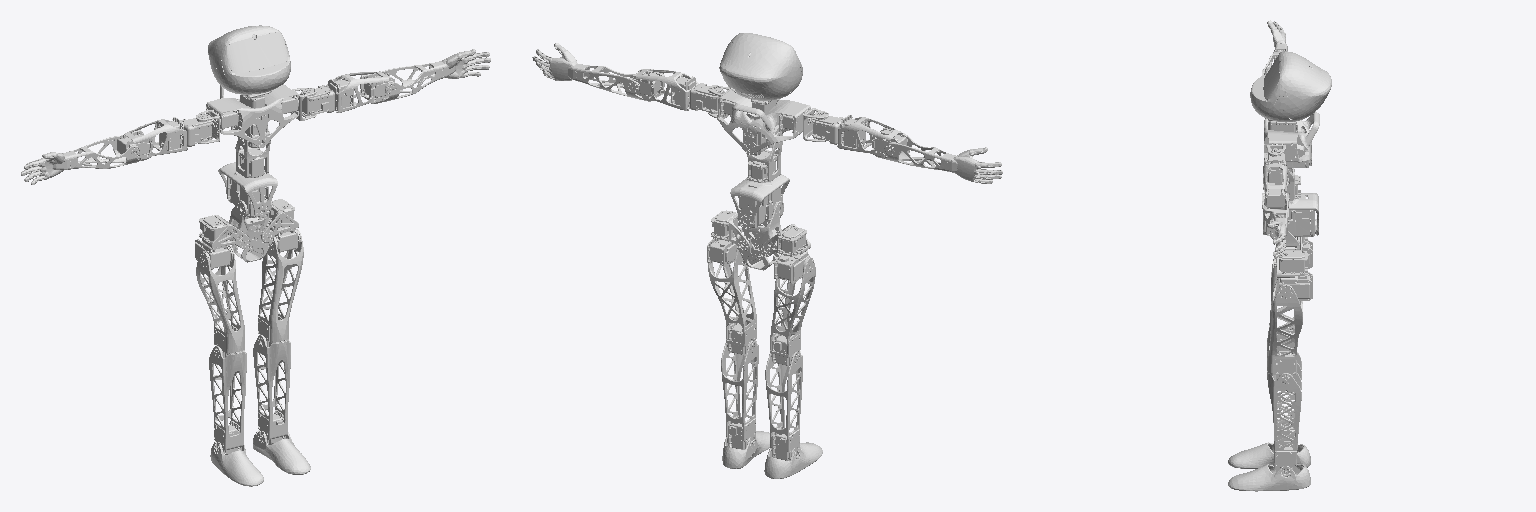
--- Render facts (derived) ---
3 views of the same robot in one strip: view 1: azimuth 30°, elevation 25°; view 2: azimuth 150°, elevation 25°; view 3: azimuth 270°, elevation 25° (orthographic).
Robot: Poppy_Humanoid — 26 links, 25 joints (25 revolute); root link pelvis; default pose: all joints at 0.
Visible links, largest first — view 1: head, chest, l_thigh, l_shin, r_thigh, r_shin, r_forearm, l_forearm, r_upper_arm, l_upper_arm, pelvis, l_foot (+9 smaller); view 2: head, chest, l_shin, r_shin, r_thigh, l_thigh, r_forearm, l_forearm, l_upper_arm, r_upper_arm, abdomen, pelvis (+10 smaller); view 3: head, l_thigh, l_shin, chest, l_foot, l_upper_arm, r_foot, l_forearm, abs_motors, l_hip, l_hip_motor.
Link boxes in pixels (x1,y1,x2,y2): head: (208,25,290,94); chest: (206,84,298,147); l_thigh: (258,229,303,346); l_shin: (253,335,290,444); r_thigh: (196,245,244,357); r_shin: (209,346,246,454); r_forearm: (21,136,139,184); l_forearm: (381,49,490,102); r_upper_arm: (117,117,187,160); l_upper_arm: (326,71,394,112); pelvis: (227,200,272,262); l_foot: (253,430,310,474); head: (719,33,802,100); chest: (717,90,810,154); l_shin: (721,340,758,449); r_shin: (765,351,802,460); r_thigh: (770,257,815,366); l_thigh: (708,249,756,355); r_forearm: (884,134,1002,183); l_forearm: (532,43,642,99); l_upper_arm: (630,69,698,110); r_upper_arm: (837,115,907,158); abdomen: (730,174,789,229); pelvis: (737,201,783,270); head: (1250,51,1331,122); l_thigh: (1267,278,1302,381); l_shin: (1267,371,1301,473); chest: (1264,112,1319,165); l_foot: (1228,464,1310,491); l_upper_arm: (1263,160,1289,208); r_foot: (1228,442,1310,468); l_forearm: (1262,193,1288,258); abs_motors: (1265,210,1316,237); l_hip: (1275,250,1307,277); l_hip_motor: (1278,272,1312,300).
Size in the robot's own frame: 0.9302 by 0.1838 by 0.8094 metres.
Meshes: 26 distinct files referenced, 26 mesh visuals loaded (26 binary STL).

URDF robot description (Poppy_Humanoid):
<?xml version="1.0" encoding="utf-8"?>
<robot name="Poppy_Humanoid">
	<link name="pelvis">
		<inertial>
			<origin xyz="-0.000134932459328483 -0.000399086261064929 0.00195556930608449" rpy="0 0 0"></origin>
			<mass value="0.18520035953947"></mass>
			<inertia ixx="0.000101804322229161" ixy="3.56589402562651E-08" ixz="-1.38613151054156E-05" iyy="0.000142404075398435" iyz="-3.50682832702007E-06" izz="9.38193247222871E-05"></inertia>
		</inertial>
		<visual>
			<origin xyz="0 0 0" rpy="0 0 0"></origin>
			<geometry>
				<mesh filename="package://meshes/pelvis_visual.STL"></mesh>
			</geometry>
			<material name="">
				<color rgba="0.9 0.9 0.9 1.0"></color>
			</material>
		</visual>
		<collision>
			<origin xyz="0 0 0" rpy="0 0 0"></origin>
			<geometry>
				<mesh filename="package://meshes/pelvis_respondable.STL"></mesh>
			</geometry>
		</collision>
	</link>
	<link name="r_hip">
		<inertial>
			<origin xyz="-0.0419310610774408 0.0190565121211527 -0.0049369159749795" rpy="0 0 0"></origin>
			<mass value="0.0843835237958419"></mass>
			<inertia ixx="2.80785419197495E-05" ixy="-1.23046307113086E-06" ixz="6.6239556232755E-07" iyy="2.83383567782285E-05" iyz="-1.44609279432087E-06" izz="2.15931686710985E-05"></inertia>
		</inertial>
		<visual>
			<origin xyz="0 0 0" rpy="0 0 0"></origin>
			<geometry>
				<mesh filename="package://meshes/r_hip_visual.STL"></mesh>
			</geometry>
			<material name="">
				<color rgba="0.9 0.9 0.9 1.0"></color>
			</material>
		</visual>
		<collision>
			<origin xyz="0 0 0" rpy="0 0 0"></origin>
			<geometry>
				<mesh filename="package://meshes/r_hip_respondable.STL"></mesh>
			</geometry>
		</collision>
	</link>
	<link name="r_hip_motor">
		<inertial>
			<origin xyz="0.00012677211714017 -0.0228896110294103 -0.0134988950219984" rpy="0 0 0"></origin>
			<mass value="0.0831707898707576"></mass>
			<inertia ixx="2.94087635631147E-05" ixy="-1.19904545841814E-08" ixz="-2.40263672865729E-07" iyy="3.59801748266375E-05" iyz="7.9755837503152E-07" izz="2.29200602273928E-05"></inertia>
		</inertial>
		<visual>
			<origin xyz="0 0 0" rpy="0 0 0"></origin>
			<geometry>
				<mesh filename="package://meshes/r_hip_motor_visual.STL"></mesh>
			</geometry>
			<material name="">
				<color rgba="0.9 0.9 0.9 1.0"></color>
			</material>
		</visual>
		<collision>
			<origin xyz="0 0 0" rpy="0 0 0"></origin>
			<geometry>
				<mesh filename="package://meshes/r_hip_motor_respondable.STL"></mesh>
			</geometry>
		</collision>
	</link>
	<link name="r_thigh">
		<inertial>
			<origin xyz="0.0192501209789311 -0.140974172218775 0.000432765258959229" rpy="0 0 0"></origin>
			<mass value="0.116386255838466"></mass>
			<inertia ixx="0.000357762131890894" ixy="-4.71321103204108E-05" ixz="2.18885095933642E-06" iyy="5.14619739065129E-05" iyz="-5.54069244270054E-06" izz="0.000370171570432626"></inertia>
		</inertial>
		<visual>
			<origin xyz="0 0 0" rpy="0 0 0"></origin>
			<geometry>
				<mesh filename="package://meshes/r_thigh_visual.STL"></mesh>
			</geometry>
			<material name="">
				<color rgba="0.9 0.9 0.9 1.0"></color>
			</material>
		</visual>
		<collision>
			<origin xyz="0 0 0" rpy="0 0 0"></origin>
			<geometry>
				<mesh filename="package://meshes/r_thigh_respondable.STL"></mesh>
			</geometry>
		</collision>
	</link>
	<link name="r_shin">
		<inertial>
			<origin xyz="-0.00150809388022299 -0.137041584549603 0.0228988594303728" rpy="0 0 0"></origin>
			<mass value="0.115582219792398"></mass>
			<inertia ixx="0.000397225397723862" ixy="-1.73262609639968E-05" ixz="1.32921239310872E-08" iyy="3.98086710206889E-05" iyz="-5.89721905441721E-07" izz="0.000393657905933943"></inertia>
		</inertial>
		<visual>
			<origin xyz="0 0 0" rpy="0 0 0"></origin>
			<geometry>
				<mesh filename="package://meshes/r_shin_visual.STL"></mesh>
			</geometry>
			<material name="">
				<color rgba="0.9 0.9 0.9 1.0"></color>
			</material>
		</visual>
		<collision>
			<origin xyz="0 0 0" rpy="0 0 0"></origin>
			<geometry>
				<mesh filename="package://meshes/r_shin_respondable.STL"></mesh>
			</geometry>
		</collision>
	</link>
	<link name="r_foot">
		<inertial>
			<origin xyz="0.0204293303781304 -0.0233359048261193 0.0268526073213802" rpy="0 0 0"></origin>
			<mass value="0.0467879950319091"></mass>
			<inertia ixx="8.14403907813341E-05" ixy="1.79180509533517E-07" ixz="-2.42059026946486E-06" iyy="8.8648252995759E-05" iyz="-3.23018791598496E-06" izz="1.79463752431845E-05"></inertia>
		</inertial>
		<visual>
			<origin xyz="0 0 0" rpy="0 0 0"></origin>
			<geometry>
				<mesh filename="package://meshes/r_foot_visual.STL"></mesh>
			</geometry>
			<material name="">
				<color rgba="0.9 0.9 0.9 1.0"></color>
			</material>
		</visual>
		<collision>
			<origin xyz="0 0 0" rpy="0 0 0"></origin>
			<geometry>
				<mesh filename="package://meshes/r_foot_respondable.STL"></mesh>
			</geometry>
		</collision>
	</link>
	<link name="l_hip">
		<inertial>
			<origin xyz="0.0419306472605077 0.0190563885809745 -0.00493699078761145" rpy="0 0 0"></origin>
			<mass value="0.084384314388701"></mass>
			<inertia ixx="2.80793467645287E-05" ixy="1.23086422338588E-06" ixz="-6.62398430684737E-07" iyy="2.83405782814578E-05" iyz="-1.44600299896268E-06" izz="2.15947433435168E-05"></inertia>
		</inertial>
		<visual>
			<origin xyz="0 0 0" rpy="0 0 0"></origin>
			<geometry>
				<mesh filename="package://meshes/l_hip_visual.STL"></mesh>
			</geometry>
			<material name="">
				<color rgba="0.9 0.9 0.9 1.0"></color>
			</material>
		</visual>
		<collision>
			<origin xyz="0 0 0" rpy="0 0 0"></origin>
			<geometry>
				<mesh filename="package://meshes/l_hip_respondable.STL"></mesh>
			</geometry>
		</collision>
	</link>
	<link name="l_hip_motor">
		<inertial>
			<origin xyz="-0.000127079593402107 -0.0228896103855824 -0.0134988950219984" rpy="0 0 0"></origin>
			<mass value="0.0831707898707576"></mass>
			<inertia ixx="2.94087634441972E-05" ixy="1.14532470512781E-08" ixz="2.40221424306256E-07" iyy="3.59801683348766E-05" iyz="7.97560828147263E-07" izz="2.29200536167144E-05"></inertia>
		</inertial>
		<visual>
			<origin xyz="0 0 0" rpy="0 0 0"></origin>
			<geometry>
				<mesh filename="package://meshes/l_hip_motor_visual.STL"></mesh>
			</geometry>
			<material name="">
				<color rgba="0.9 0.9 0.9 1.0"></color>
			</material>
		</visual>
		<collision>
			<origin xyz="0 0 0" rpy="0 0 0"></origin>
			<geometry>
				<mesh filename="package://meshes/l_hip_motor_respondable.STL"></mesh>
			</geometry>
		</collision>
	</link>
	<link name="l_thigh">
		<inertial>
			<origin xyz="-0.019252460356064 -0.142230931721003 0.000612323159069193" rpy="0 0 0"></origin>
			<mass value="0.114854459344049"></mass>
			<inertia ixx="0.000344974307251891" ixy="4.73949176309948E-05" ixz="-2.2011322605997E-06" iyy="5.11655383215627E-05" iyz="-3.3911468808746E-06" izz="0.000357718491831138"></inertia>
		</inertial>
		<visual>
			<origin xyz="0 0 0" rpy="0 0 0"></origin>
			<geometry>
				<mesh filename="package://meshes/l_thigh_visual.STL"></mesh>
			</geometry>
			<material name="">
				<color rgba="0.9 0.9 0.9 1.0"></color>
			</material>
		</visual>
		<collision>
			<origin xyz="0 0 0" rpy="0 0 0"></origin>
			<geometry>
				<mesh filename="package://meshes/l_thigh_respondable.STL"></mesh>
			</geometry>
		</collision>
	</link>
	<link name="l_shin">
		<inertial>
			<origin xyz="-0.00150809145543363 -0.137041584769234 -0.0229033576380381" rpy="0 0 0"></origin>
			<mass value="0.11558221959692"></mass>
			<inertia ixx="0.000397225344473892" ixy="-1.7326274763791E-05" ixz="-3.52146929156471E-09" iyy="3.98086215785412E-05" iyz="5.50111227416849E-07" izz="0.000393657903677591"></inertia>
		</inertial>
		<visual>
			<origin xyz="0 0 0" rpy="0 0 0"></origin>
			<geometry>
				<mesh filename="package://meshes/l_shin_visual.STL"></mesh>
			</geometry>
			<material name="">
				<color rgba="0.9 0.9 0.9 1.0"></color>
			</material>
		</visual>
		<collision>
			<origin xyz="0 0 0" rpy="0 0 0"></origin>
			<geometry>
				<mesh filename="package://meshes/l_shin_respondable.STL"></mesh>
			</geometry>
		</collision>
	</link>
	<link name="l_foot">
		<inertial>
			<origin xyz="-0.020427799658059 -0.023322293418243 0.0268332758297585" rpy="0 0 0"></origin>
			<mass value="0.0468257348098641"></mass>
			<inertia ixx="8.1463512692765E-05" ixy="-1.79215713282762E-07" ixz="2.42595321155028E-06" iyy="8.8658680494918E-05" iyz="-3.23538234039819E-06" izz="1.7963767676241E-05"></inertia>
		</inertial>
		<visual>
			<origin xyz="0 0 0" rpy="0 0 0"></origin>
			<geometry>
				<mesh filename="package://meshes/l_foot_visual.STL"></mesh>
			</geometry>
			<material name="">
				<color rgba="0.9 0.9 0.9 1.0"></color>
			</material>
		</visual>
		<collision>
			<origin xyz="0 0 0" rpy="0 0 0"></origin>
			<geometry>
				<mesh filename="package://meshes/l_foot_respondable.STL"></mesh>
			</geometry>
		</collision>
	</link>
	<link name="abs_motors">
		<inertial>
			<origin xyz="-6.29779489192246E-05 0.0133591399673186 -0.0195687625589375" rpy="0 0 0"></origin>
			<mass value="0.16766708386429"></mass>
			<inertia ixx="0.000151720676825684" ixy="-2.41666285846992E-07" ixz="-2.06688911297549E-07" iyy="0.000131382009077746" iyz="-2.13904639264389E-06" izz="6.52732386194484E-05"></inertia>
		</inertial>
		<visual>
			<origin xyz="0 0 0" rpy="0 0 0"></origin>
			<geometry>
				<mesh filename="package://meshes/abs_motors_visual.STL"></mesh>
			</geometry>
			<material name="">
				<color rgba="0.9 0.9 0.9 1.0"></color>
			</material>
		</visual>
		<collision>
			<origin xyz="0 0 0" rpy="0 0 0"></origin>
			<geometry>
				<mesh filename="package://meshes/abs_motors_respondable.STL"></mesh>
			</geometry>
		</collision>
	</link>
	<link name="abdomen">
		<inertial>
			<origin xyz="4.70358640929572E-07 0.0445314260459549 -0.022296044885406" rpy="0 0 0"></origin>
			<mass value="0.0384110457457536"></mass>
			<inertia ixx="5.9365236572053E-05" ixy="-8.257716306361E-11" ixz="-2.55036869156096E-10" iyy="5.98640694082658E-05" iyz="3.94818292640265E-07" izz="2.35987614893539E-05"></inertia>
		</inertial>
		<visual>
			<origin xyz="0 0 0" rpy="0 0 0"></origin>
			<geometry>
				<mesh filename="package://meshes/abdomen_visual.STL"></mesh>
			</geometry>
			<material name="">
				<color rgba="0.9 0.9 0.9 1.0"></color>
			</material>
		</visual>
		<collision>
			<origin xyz="0 0 0" rpy="0 0 0"></origin>
			<geometry>
				<mesh filename="package://meshes/abdomen_respondable.STL"></mesh>
			</geometry>
		</collision>
	</link>
	<link name="spine">
		<inertial>
			<origin xyz="-2.40411891850495E-07 0.0288451667347867 -0.0100975118547382" rpy="0 0 0"></origin>
			<mass value="0.0926815106655512"></mass>
			<inertia ixx="3.84763910015325E-05" ixy="-1.20593001730888E-09" ixz="-2.38589260905183E-10" iyy="2.7320514654861E-05" iyz="1.47490149318973E-06" izz="3.26595211965373E-05"></inertia>
		</inertial>
		<visual>
			<origin xyz="0 0 0" rpy="0 0 0"></origin>
			<geometry>
				<mesh filename="package://meshes/spine_visual.STL"></mesh>
			</geometry>
			<material name="">
				<color rgba="0.9 0.9 0.9 1.0"></color>
			</material>
		</visual>
		<collision>
			<origin xyz="0 0 0" rpy="0 0 0"></origin>
			<geometry>
				<mesh filename="package://meshes/spine_respondable.STL"></mesh>
			</geometry>
		</collision>
	</link>
	<link name="bust_motors">
		<inertial>
			<origin xyz="3.50872416629779E-05 0.0105220286877652 -0.0174331453843439" rpy="0 0 0"></origin>
			<mass value="0.158876054570625"></mass>
			<inertia ixx="0.000100953683249293" ixy="-3.89105307189684E-07" ixz="9.71749941401585E-08" iyy="8.94288410563621E-05" iyz="-1.31738255727689E-06" izz="4.26225972692235E-05"></inertia>
		</inertial>
		<visual>
			<origin xyz="0 0 0" rpy="0 0 0"></origin>
			<geometry>
				<mesh filename="package://meshes/bust_motors_visual.STL"></mesh>
			</geometry>
			<material name="">
				<color rgba="0.9 0.9 0.9 1.0"></color>
			</material>
		</visual>
		<collision>
			<origin xyz="0 0 0" rpy="0 0 0"></origin>
			<geometry>
				<mesh filename="package://meshes/bust_motors_respondable.STL"></mesh>
			</geometry>
		</collision>
	</link>
	<link name="chest">
		<inertial>
			<origin xyz="2.35256459143538E-06 0.0514948183080913 -0.0105463056982622" rpy="0 0 0"></origin>
			<mass value="0.262925523172723"></mass>
			<inertia ixx="0.000154597294293882" ixy="2.32304239504647E-08" ixz="-2.47140128362103E-08" iyy="0.000750952782458072" iyz="1.53530143139102E-06" izz="0.000688549998744818"></inertia>
		</inertial>
		<visual>
			<origin xyz="0 0 0" rpy="0 0 0"></origin>
			<geometry>
				<mesh filename="package://meshes/chest_visual.STL"></mesh>
			</geometry>
			<material name="">
				<color rgba="0.9 0.9 0.9 1.0"></color>
			</material>
		</visual>
		<collision>
			<origin xyz="0 0 0" rpy="0 0 0"></origin>
			<geometry>
				<mesh filename="package://meshes/chest_respondable.STL"></mesh>
			</geometry>
		</collision>
	</link>
	<link name="neck">
		<inertial>
			<origin xyz="-0.00147486363077957 0.00928455262636602 2.89600749219313E-06" rpy="0 0 0"></origin>
			<mass value="0.00588496516988365"></mass>
			<inertia ixx="7.25596636570396E-07" ixy="-9.29944216419538E-08" ixz="2.01438227027406E-10" iyy="2.33535976458607E-06" iyz="1.55383710797264E-11" izz="2.57395421284165E-06"></inertia>
		</inertial>
		<visual>
			<origin xyz="0 0 0" rpy="0 0 0"></origin>
			<geometry>
				<mesh filename="package://meshes/neck_visual.STL"></mesh>
			</geometry>
			<material name="">
				<color rgba="0.9 0.9 0.9 1.0"></color>
			</material>
		</visual>
		<collision>
			<origin xyz="0 0 0" rpy="0 0 0"></origin>
			<geometry>
				<mesh filename="package://meshes/neck_respondable.STL"></mesh>
			</geometry>
		</collision>
	</link>
	<link name="head">
		<inertial>
			<origin xyz="0.000557544173188459 0.0327437693305889 -0.0132545775103434" rpy="0 0 0"></origin>
			<mass value="0.188564323997503"></mass>
			<inertia ixx="0.000353329921483274" ixy="-2.17595216032547E-07" ixz="4.10678991843685E-06" iyy="0.000384587155295662" iyz="-2.16656424152966E-05" izz="0.000396626339401006"></inertia>
		</inertial>
		<visual>
			<origin xyz="0 0 0" rpy="0 0 0"></origin>
			<geometry>
				<mesh filename="package://meshes/head_visual.STL"></mesh>
			</geometry>
			<material name="">
				<color rgba="0.9 0.9 0.9 1.0"></color>
			</material>
		</visual>
		<collision>
			<origin xyz="0 0 0" rpy="0 0 0"></origin>
			<geometry>
				<mesh filename="package://meshes/head_respondable.STL"></mesh>
			</geometry>
		</collision>
	</link>
	<link name="l_shoulder">
		<inertial>
			<origin xyz="0.0105246491971973 0.00179805316216127 -0.00915201992957032" rpy="0 0 0"></origin>
			<mass value="0.00843598968780806"></mass>
			<inertia ixx="3.39606863056539E-06" ixy="-4.79545875245114E-08" ixz="2.95435354929514E-08" iyy="3.56726082486902E-06" iyz="1.00382310579659E-08" izz="1.84634806401887E-06"></inertia>
		</inertial>
		<visual>
			<origin xyz="0 0 0" rpy="0 0 0"></origin>
			<geometry>
				<mesh filename="package://meshes/l_shoulder_visual.STL"></mesh>
			</geometry>
			<material name="">
				<color rgba="0.9 0.9 0.9 1.0"></color>
			</material>
		</visual>
		<collision>
			<origin xyz="0 0 0" rpy="0 0 0"></origin>
			<geometry>
				<mesh filename="package://meshes/l_shoulder_respondable.STL"></mesh>
			</geometry>
		</collision>
	</link>
	<link name="l_shoulder_motor">
		<inertial>
			<origin xyz="2.25562237481797E-07 0.0125756739553211 0.00859826040204853" rpy="0 0 0"></origin>
			<mass value="0.0828144098443214"></mass>
			<inertia ixx="2.76486208811411E-05" ixy="1.32207552337974E-10" ixz="6.6889770978984E-10" iyy="1.64427853426986E-05" iyz="7.23401723852699E-07" izz="2.26416351010788E-05"></inertia>
		</inertial>
		<visual>
			<origin xyz="0 0 0" rpy="0 0 0"></origin>
			<geometry>
				<mesh filename="package://meshes/l_shoulder_motor_visual.STL"></mesh>
			</geometry>
			<material name="">
				<color rgba="0.9 0.9 0.9 1.0"></color>
			</material>
		</visual>
		<collision>
			<origin xyz="0 0 0" rpy="0 0 0"></origin>
			<geometry>
				<mesh filename="package://meshes/l_shoulder_motor_respondable.STL"></mesh>
			</geometry>
		</collision>
	</link>
	<link name="l_upper_arm">
		<inertial>
			<origin xyz="3.30518731642866E-05 0.0628256242231928 -0.0106376043749558" rpy="0 0 0"></origin>
			<mass value="0.168140859572398"></mass>
			<inertia ixx="0.000280827719319256" ixy="6.03218629893559E-07" ixz="3.24530722833658E-09" iyy="4.23293519917111E-05" iyz="3.11052764904881E-06" izz="0.000275916197869213"></inertia>
		</inertial>
		<visual>
			<origin xyz="0 0 0" rpy="0 0 0"></origin>
			<geometry>
				<mesh filename="package://meshes/l_upper_arm_visual.STL"></mesh>
			</geometry>
			<material name="">
				<color rgba="0.9 0.9 0.9 1.0"></color>
			</material>
		</visual>
		<collision>
			<origin xyz="0 0 0" rpy="0 0 0"></origin>
			<geometry>
				<mesh filename="package://meshes/l_upper_arm_respondable.STL"></mesh>
			</geometry>
		</collision>
	</link>
	<link name="l_forearm">
		<inertial>
			<origin xyz="0.00691480023011085 0.10715758721324 0.00499021473883754" rpy="0 0 0"></origin>
			<mass value="0.0486512481725727"></mass>
			<inertia ixx="0.000185803541823861" ixy="7.31763110936326E-06" ixz="-9.0080655878687E-08" iyy="1.51053240271383E-05" iyz="-1.35878077941956E-05" izz="0.000182745910584552"></inertia>
		</inertial>
		<visual>
			<origin xyz="0 0 0" rpy="0 0 0"></origin>
			<geometry>
				<mesh filename="package://meshes/l_forearm_visual.STL"></mesh>
			</geometry>
			<material name="">
				<color rgba="0.9 0.9 0.9 1.0"></color>
			</material>
		</visual>
		<collision>
			<origin xyz="0 0 0" rpy="0 0 0"></origin>
			<geometry>
				<mesh filename="package://meshes/l_forearm_respondable.STL"></mesh>
			</geometry>
		</collision>
	</link>
	<link name="r_shoulder">
		<inertial>
			<origin xyz="-0.0104970276721559 0.00172611065393897 -0.00916610067254806" rpy="0 0 0"></origin>
			<mass value="0.00848189714003649"></mass>
			<inertia ixx="3.40574097306283E-06" ixy="4.48540328143448E-08" ixz="-3.01046953764439E-08" iyy="3.57001060355875E-06" iyz="1.1601962064402E-08" izz="1.85571692853151E-06"></inertia>
		</inertial>
		<visual>
			<origin xyz="0 0 0" rpy="0 0 0"></origin>
			<geometry>
				<mesh filename="package://meshes/r_shoulder_visual.STL"></mesh>
			</geometry>
			<material name="">
				<color rgba="0.9 0.9 0.9 1.0"></color>
			</material>
		</visual>
		<collision>
			<origin xyz="0 0 0" rpy="0 0 0"></origin>
			<geometry>
				<mesh filename="package://meshes/r_shoulder_respondable.STL"></mesh>
			</geometry>
		</collision>
	</link>
	<link name="r_shoulder_motor">
		<inertial>
			<origin xyz="2.25562237481797E-07 0.0125756739553211 0.00859826040204864" rpy="0 0 0"></origin>
			<mass value="0.0828144098443213"></mass>
			<inertia ixx="2.76486208811411E-05" ixy="1.32207552352561E-10" ixz="6.68897709796528E-10" iyy="1.64427853426986E-05" iyz="7.23401723852708E-07" izz="2.26416351010787E-05"></inertia>
		</inertial>
		<visual>
			<origin xyz="0 0 0" rpy="0 0 0"></origin>
			<geometry>
				<mesh filename="package://meshes/r_shoulder_motor_visual.STL"></mesh>
			</geometry>
			<material name="">
				<color rgba="0.9 0.9 0.9 1.0"></color>
			</material>
		</visual>
		<collision>
			<origin xyz="0 0 0" rpy="0 0 0"></origin>
			<geometry>
				<mesh filename="package://meshes/r_shoulder_motor_respondable.STL"></mesh>
			</geometry>
		</collision>
	</link>
	<link name="r_upper_arm">
		<inertial>
			<origin xyz="-3.32548713521223E-05 0.0628256242258387 -0.0106376027333001" rpy="0 0 0"></origin>
			<mass value="0.16814085957724"></mass>
			<inertia ixx="0.000280827719414285" ixy="-6.03127767269455E-07" ixz="-3.86325402336742E-09" iyy="4.23293497956197E-05" iyz="3.11054354485249E-06" izz="0.00027591619563535"></inertia>
		</inertial>
		<visual>
			<origin xyz="0 0 0" rpy="0 0 0"></origin>
			<geometry>
				<mesh filename="package://meshes/r_upper_arm_visual.STL"></mesh>
			</geometry>
			<material name="">
				<color rgba="0.9 0.9 0.9 1.0"></color>
			</material>
		</visual>
		<collision>
			<origin xyz="0 0 0" rpy="0 0 0"></origin>
			<geometry>
				<mesh filename="package://meshes/r_upper_arm_respondable.STL"></mesh>
			</geometry>
		</collision>
	</link>
	<link name="r_forearm">
		<inertial>
			<origin xyz="-0.00691618587524222 0.107157908858058 0.00498983982891094" rpy="0 0 0"></origin>
			<mass value="0.0486511084909604"></mass>
			<inertia ixx="0.000185805096233415" ixy="-7.3225450436654E-06" ixz="9.10153472751173E-08" iyy="1.51060270748784E-05" iyz="-1.35866305828973E-05" izz="0.000182748555542486"></inertia>
		</inertial>
		<visual>
			<origin xyz="0 0 0" rpy="0 0 0"></origin>
			<geometry>
				<mesh filename="package://meshes/r_forearm_visual.STL"></mesh>
			</geometry>
			<material name="">
				<color rgba="0.9 0.9 0.9 1.0"></color>
			</material>
		</visual>
		<collision>
			<origin xyz="0 0 0" rpy="0 0 0"></origin>
			<geometry>
				<mesh filename="package://meshes/r_forearm_respondable.STL"></mesh>
			</geometry>
		</collision>
	</link>
	<joint name="r_hip_x" type="revolute">
		<origin xyz="-0.0225417390633467 0 0" rpy="1.5707963267949 0 0"></origin>
		<parent link="pelvis"></parent>
		<child link="r_hip"></child>
		<axis xyz="0 0 -1"></axis>
		<limit effort="3.1" lower="-0.785398163397" upper="0.349065850399" velocity="7.0"></limit>
	</joint>
	<joint name="r_hip_z" type="revolute">
		<origin xyz="-0.0439986111539757 0 0.005" rpy="0 0 0"></origin>
		<parent link="r_hip"></parent>
		<child link="r_hip_motor"></child>
		<axis xyz="0 -1 0"></axis>
		<limit effort="3.1" lower="-0.436332312999" upper="0.698131700798" velocity="7.0"></limit>
	</joint>
	<joint name="r_hip_y" type="revolute">
		<origin xyz="0 -0.024 0" rpy="0 0 0"></origin>
		<parent link="r_hip_motor"></parent>
		<child link="r_thigh"></child>
		<axis xyz="-1 0 0"></axis>
		<limit effort="7.3" lower="-1.4835298642" upper="1.83259571459" velocity="8.2"></limit>
	</joint>
	<joint name="r_knee_y" type="revolute">
		<origin xyz="0 -0.182 0" rpy="0 1.5707963267949 0"></origin>
		<parent link="r_thigh"></parent>
		<child link="r_shin"></child>
		<axis xyz="0 0 -1"></axis>
		<limit effort="3.1" lower="-2.09439510239" upper="0.0349065850399" velocity="7.0"></limit>
	</joint>
	<joint name="r_ankle_y" type="revolute">
		<origin xyz="0 -0.18 0" rpy="0 -1.5708 0"></origin>
		<parent link="r_shin"></parent>
		<child link="r_foot"></child>
		<axis xyz="-1 0 0"></axis>
		<limit effort="3.1" lower="-1.2217304764" upper="0.436332312999" velocity="7.0"></limit>
	</joint>
	<joint name="l_hip_x" type="revolute">
		<origin xyz="0.0225417390633466 0 0" rpy="1.5707963267949 0 0"></origin>
		<parent link="pelvis"></parent>
		<child link="l_hip"></child>
		<axis xyz="0 0 -1"></axis>
		<limit effort="3.1" lower="-0.383972435439" upper="0.785398163397" velocity="7.0"></limit>
	</joint>
	<joint name="l_hip_z" type="revolute">
		<origin xyz="0.0439986111539757 0 0.005" rpy="0 0 0"></origin>
		<parent link="l_hip"></parent>
		<child link="l_hip_motor"></child>
		<axis xyz="0 -1 0"></axis>
		<limit effort="3.1" lower="-0.698131700798" upper="0.436332312999" velocity="7.0"></limit>
	</joint>
	<joint name="l_hip_y" type="revolute">
		<origin xyz="0 -0.024 0" rpy="0 0 0"></origin>
		<parent link="l_hip_motor"></parent>
		<child link="l_thigh"></child>
		<axis xyz="1 0 0"></axis>
		<limit effort="7.3" lower="-1.83259571459" upper="1.4835298642" velocity="8.2"></limit>
	</joint>
	<joint name="l_knee_y" type="revolute">
		<origin xyz="0 -0.182 0" rpy="0 1.5707963267949 0"></origin>
		<parent link="l_thigh"></parent>
		<child link="l_shin"></child>
		<axis xyz="0 0 -1"></axis>
		<limit effort="3.1" lower="-0.0349065850399" upper="2.09439510239" velocity="7.0"></limit>
	</joint>
	<joint name="l_ankle_y" type="revolute">
		<origin xyz="0 -0.18 0" rpy="0 -1.5708 0"></origin>
		<parent link="l_shin"></parent>
		<child link="l_foot"></child>
		<axis xyz="1 0 0"></axis>
		<limit effort="3.1" lower="-0.610865238198" upper="1.2217304764" velocity="7.0"></limit>
	</joint>
	<joint name="abs_y" type="revolute">
		<origin xyz="0 -0.017 0.061" rpy="1.5707963267949 0 0"></origin>
		<parent link="pelvis"></parent>
		<child link="abs_motors"></child>
		<axis xyz="-1 0 0"></axis>
		<limit effort="7.3" lower="-0.645771823238" upper="0.279252680319" velocity="8.2"></limit>
	</joint>
	<joint name="abs_x" type="revolute">
		<origin xyz="0 0 0" rpy="0 0 0"></origin>
		<parent link="abs_motors"></parent>
		<child link="abdomen"></child>
		<axis xyz="0 0 1"></axis>
		<limit effort="7.3" lower="-0.785398163397" upper="0.785398163397" velocity="8.2"></limit>
	</joint>
	<joint name="abs_z" type="revolute">
		<origin xyz="0 0.0516374742048976 0" rpy="0 0 0"></origin>
		<parent link="abdomen"></parent>
		<child link="spine"></child>
		<axis xyz="0 1 0"></axis>
		<limit effort="3.1" lower="-1.3962634016" upper="1.3962634016" velocity="7.0"></limit>
	</joint>
	<joint name="bust_y" type="revolute">
		<origin xyz="0 0.07985 0.00279999999999998" rpy="0 0 0"></origin>
		<parent link="spine"></parent>
		<child link="bust_motors"></child>
		<axis xyz="-1 0 0"></axis>
		<limit effort="3.1" lower="-0.802851455917" upper="0.401425727959" velocity="7.0"></limit>
	</joint>
	<joint name="bust_x" type="revolute">
		<origin xyz="0 0 0" rpy="0 0 0"></origin>
		<parent link="bust_motors"></parent>
		<child link="chest"></child>
		<axis xyz="0 0 1"></axis>
		<limit effort="3.1" lower="-0.698131700798" upper="0.698131700798" velocity="7.0"></limit>
	</joint>
	<joint name="head_z" type="revolute">
		<origin xyz="0 0.084 0.00499999999999996" rpy="0 0 0"></origin>
		<parent link="chest"></parent>
		<child link="neck"></child>
		<axis xyz="0 1 0"></axis>
		<limit effort="1.8" lower="-1.74532925199" upper="1.74532925199" velocity="10.0"></limit>
	</joint>
	<joint name="head_y" type="revolute">
		<origin xyz="0 0.0199999999999999 0" rpy="-0.349065850398866 0 0"></origin>
		<parent link="neck"></parent>
		<child link="head"></child>
		<axis xyz="-1 0 0"></axis>
		<limit effort="1.8" lower="-0.698131700798" upper="0.13962634016" velocity="10.0"></limit>
	</joint>
	<joint name="l_shoulder_y" type="revolute">
		<origin xyz="0.0771000000000001 0.0499999999999999 0.00399999999999997" rpy="-1.5707963267949 0 0"></origin>
		<parent link="chest"></parent>
		<child link="l_shoulder"></child>
		<axis xyz="1 0 0"></axis>
		<limit effort="3.1" lower="-2.09439510239" upper="2.70526034059" velocity="7.0"></limit>
	</joint>
	<joint name="l_shoulder_x" type="revolute">
		<origin xyz="0.0284 0 0" rpy="3.14159265358979 0 1.5707963267949"></origin>
		<parent link="l_shoulder"></parent>
		<child link="l_shoulder_motor"></child>
		<axis xyz="0 0 1"></axis>
		<limit effort="3.1" lower="-1.83259571459" upper="1.91986217719" velocity="7.0"></limit>
	</joint>
	<joint name="l_arm_z" type="revolute">
		<origin xyz="0 0.03625 0.0185000000000001" rpy="0 0 0"></origin>
		<parent link="l_shoulder_motor"></parent>
		<child link="l_upper_arm"></child>
		<axis xyz="0 1 0"></axis>
		<limit effort="3.1" lower="-1.57079632679" upper="1.57079632679" velocity="7.0"></limit>
	</joint>
	<joint name="l_elbow_y" type="revolute">
		<origin xyz="0 0.11175 -0.00999999999999998" rpy="0 0 0"></origin>
		<parent link="l_upper_arm"></parent>
		<child link="l_forearm"></child>
		<axis xyz="1 0 0"></axis>
		<limit effort="3.1" lower="-2.44346095279" upper="0.0" velocity="7.0"></limit>
	</joint>
	<joint name="r_shoulder_y" type="revolute">
		<origin xyz="-0.0770999999999999 0.0500000000000002 0.00400000000000003" rpy="-1.5707963267949 0 0"></origin>
		<parent link="chest"></parent>
		<child link="r_shoulder"></child>
		<axis xyz="-1 0 0"></axis>
		<limit effort="3.1" lower="-2.70526034059" upper="2.09439510239" velocity="7.0"></limit>
	</joint>
	<joint name="r_shoulder_x" type="revolute">
		<origin xyz="-0.0284 0 0" rpy="3.14159265358979 0 -1.5707963267949"></origin>
		<parent link="r_shoulder"></parent>
		<child link="r_shoulder_motor"></child>
		<axis xyz="0 0 -1"></axis>
		<limit effort="3.1" lower="-1.91986217719" upper="1.83259571459" velocity="7.0"></limit>
	</joint>
	<joint name="r_arm_z" type="revolute">
		<origin xyz="0 0.03625 0.0185000000000002" rpy="0 0 0"></origin>
		<parent link="r_shoulder_motor"></parent>
		<child link="r_upper_arm"></child>
		<axis xyz="0 1 0"></axis>
		<limit effort="3.1" lower="-1.57079632679" upper="1.57079632679" velocity="7.0"></limit>
	</joint>
	<joint name="r_elbow_y" type="revolute">
		<origin xyz="0 0.11175 -0.01" rpy="0 0 0"></origin>
		<parent link="r_upper_arm"></parent>
		<child link="r_forearm"></child>
		<axis xyz="-1 0 0"></axis>
		<limit effort="3.1" lower="0.0" upper="2.56563400043" velocity="7.0"></limit>
	</joint>
</robot>
